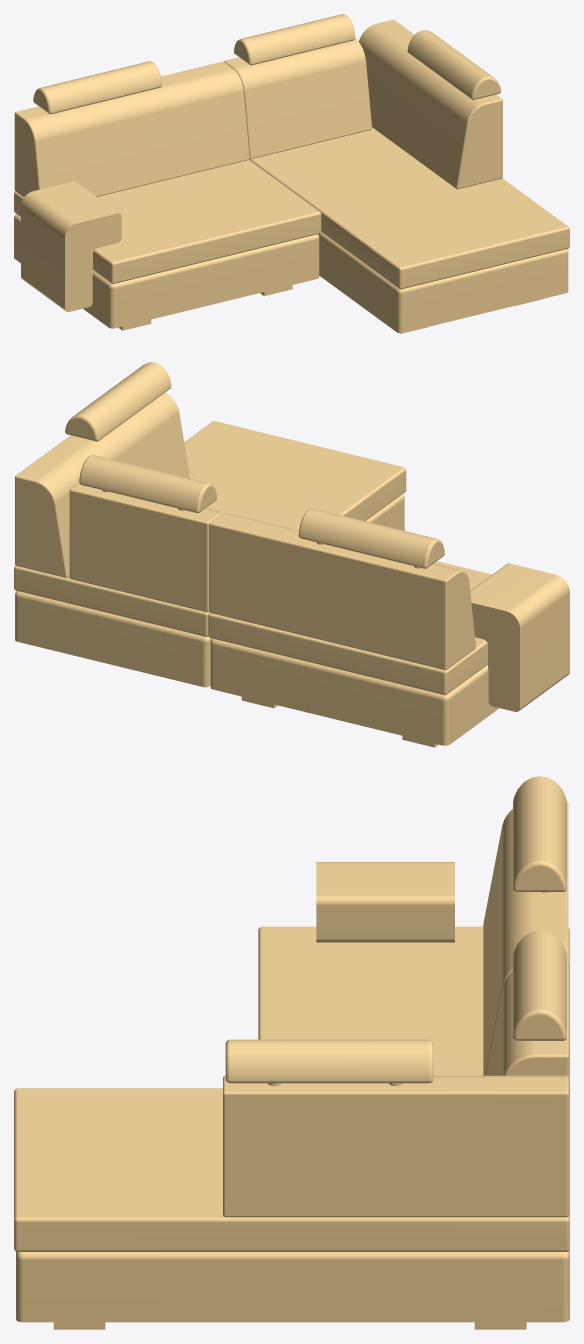
The model's file is sofa.obj.
The picture shows the model from 3 angles, top to bottom: view 1: azimuth 30°, elevation 25°; view 2: azimuth 150°, elevation 25°; view 3: azimuth 270°, elevation 25°; orthographic projection. The views are drawn at different scales.
Visible parts, largest first — view 1: modelPanel4ViewSelectedSet group62 _Sofa1:pCube1, modelPanel4ViewSelectedSet group62 _Sofa1:pCube15, modelPanel4ViewSelectedSet group62 _Sofa1:pCube10, modelPanel4ViewSelectedSet group62 _Sofa1:pCube7, modelPanel4ViewSelectedSet group62 _Sofa1:pCube8, modelPanel4ViewSelectedSet group62 _Sofa1:pCube2, modelPanel4ViewSelectedSet group62 _Sofa1:pCube9, modelPanel4ViewSelectedSet group62 _Sofa1:pCube16, modelPanel4ViewSelectedSet group62 _Sofa1:pCylinder5, modelPanel4ViewSelectedSet group62 _Sofa1:pCylinder9, modelPanel4ViewSelectedSet group62 _Sofa1:pCylinder2; view 2: modelPanel4ViewSelectedSet group62 _Sofa1:pCube15, modelPanel4ViewSelectedSet group62 _Sofa1:pCube1, modelPanel4ViewSelectedSet group62 _Sofa1:pCube9, modelPanel4ViewSelectedSet group62 _Sofa1:pCube8, modelPanel4ViewSelectedSet group62 _Sofa1:pCube7, modelPanel4ViewSelectedSet group62 _Sofa1:pCube16, modelPanel4ViewSelectedSet group62 _Sofa1:pCube2, modelPanel4ViewSelectedSet group62 _Sofa1:pCube10, modelPanel4ViewSelectedSet group62 _Sofa1:pCylinder5, modelPanel4ViewSelectedSet group62 _Sofa1:pCylinder9, modelPanel4ViewSelectedSet group62 _Sofa1:pCylinder2; view 3: modelPanel4ViewSelectedSet group62 _Sofa1:pCube7, modelPanel4ViewSelectedSet group62 _Sofa1:pCube1, modelPanel4ViewSelectedSet group62 _Sofa1:pCube2, modelPanel4ViewSelectedSet group62 _Sofa1:pCube10, modelPanel4ViewSelectedSet group62 _Sofa1:pCube16, modelPanel4ViewSelectedSet group62 _Sofa1:pCylinder2, modelPanel4ViewSelectedSet group62 _Sofa1:pCube15, modelPanel4ViewSelectedSet group62 _Sofa1:pCylinder5, modelPanel4ViewSelectedSet group62 _Sofa1:pCylinder9, modelPanel4ViewSelectedSet group62 _Sofa1:pCube8.
Boxes of the visible parts, bbox=[...] form: modelPanel4ViewSelectedSet group62 _Sofa1:pCube1: bbox=[249, 127, 569, 289]; modelPanel4ViewSelectedSet group62 _Sofa1:pCube15: bbox=[14, 61, 249, 197]; modelPanel4ViewSelectedSet group62 _Sofa1:pCube10: bbox=[14, 160, 321, 283]; modelPanel4ViewSelectedSet group62 _Sofa1:pCube7: bbox=[359, 19, 502, 189]; modelPanel4ViewSelectedSet group62 _Sofa1:pCube8: bbox=[224, 38, 371, 158]; modelPanel4ViewSelectedSet group62 _Sofa1:pCube2: bbox=[318, 232, 568, 333]; modelPanel4ViewSelectedSet group62 _Sofa1:pCube9: bbox=[14, 214, 319, 328]; modelPanel4ViewSelectedSet group62 _Sofa1:pCube16: bbox=[21, 181, 121, 311]; modelPanel4ViewSelectedSet group62 _Sofa1:pCylinder5: bbox=[33, 61, 161, 114]; modelPanel4ViewSelectedSet group62 _Sofa1:pCylinder9: bbox=[234, 14, 355, 65]; modelPanel4ViewSelectedSet group62 _Sofa1:pCylinder2: bbox=[407, 30, 500, 99]; modelPanel4ViewSelectedSet group62 _Sofa1:pCube15: bbox=[209, 513, 475, 670]; modelPanel4ViewSelectedSet group62 _Sofa1:pCube1: bbox=[14, 421, 406, 636]; modelPanel4ViewSelectedSet group62 _Sofa1:pCube9: bbox=[210, 638, 499, 745]; modelPanel4ViewSelectedSet group62 _Sofa1:pCube8: bbox=[69, 483, 224, 612]; modelPanel4ViewSelectedSet group62 _Sofa1:pCube7: bbox=[15, 392, 189, 578]; modelPanel4ViewSelectedSet group62 _Sofa1:pCube16: bbox=[470, 563, 569, 711]; modelPanel4ViewSelectedSet group62 _Sofa1:pCube2: bbox=[15, 494, 404, 687]; modelPanel4ViewSelectedSet group62 _Sofa1:pCube10: bbox=[208, 561, 491, 695]; modelPanel4ViewSelectedSet group62 _Sofa1:pCylinder5: bbox=[298, 508, 444, 568]; modelPanel4ViewSelectedSet group62 _Sofa1:pCylinder9: bbox=[79, 455, 216, 513]; modelPanel4ViewSelectedSet group62 _Sofa1:pCylinder2: bbox=[65, 362, 171, 441]; modelPanel4ViewSelectedSet group62 _Sofa1:pCube7: bbox=[223, 1075, 569, 1217]; modelPanel4ViewSelectedSet group62 _Sofa1:pCube1: bbox=[14, 1088, 569, 1251]; modelPanel4ViewSelectedSet group62 _Sofa1:pCube2: bbox=[16, 1249, 569, 1322]; modelPanel4ViewSelectedSet group62 _Sofa1:pCube10: bbox=[258, 926, 569, 1091]; modelPanel4ViewSelectedSet group62 _Sofa1:pCube16: bbox=[316, 862, 454, 942]; modelPanel4ViewSelectedSet group62 _Sofa1:pCylinder2: bbox=[225, 1039, 433, 1083]; modelPanel4ViewSelectedSet group62 _Sofa1:pCube15: bbox=[483, 801, 568, 1075]; modelPanel4ViewSelectedSet group62 _Sofa1:pCylinder5: bbox=[513, 776, 566, 891]; modelPanel4ViewSelectedSet group62 _Sofa1:pCylinder9: bbox=[513, 930, 566, 1040]; modelPanel4ViewSelectedSet group62 _Sofa1:pCube8: bbox=[486, 962, 569, 1077].
Bounding box in the file's own units: 216 × 91.4 × 161.
